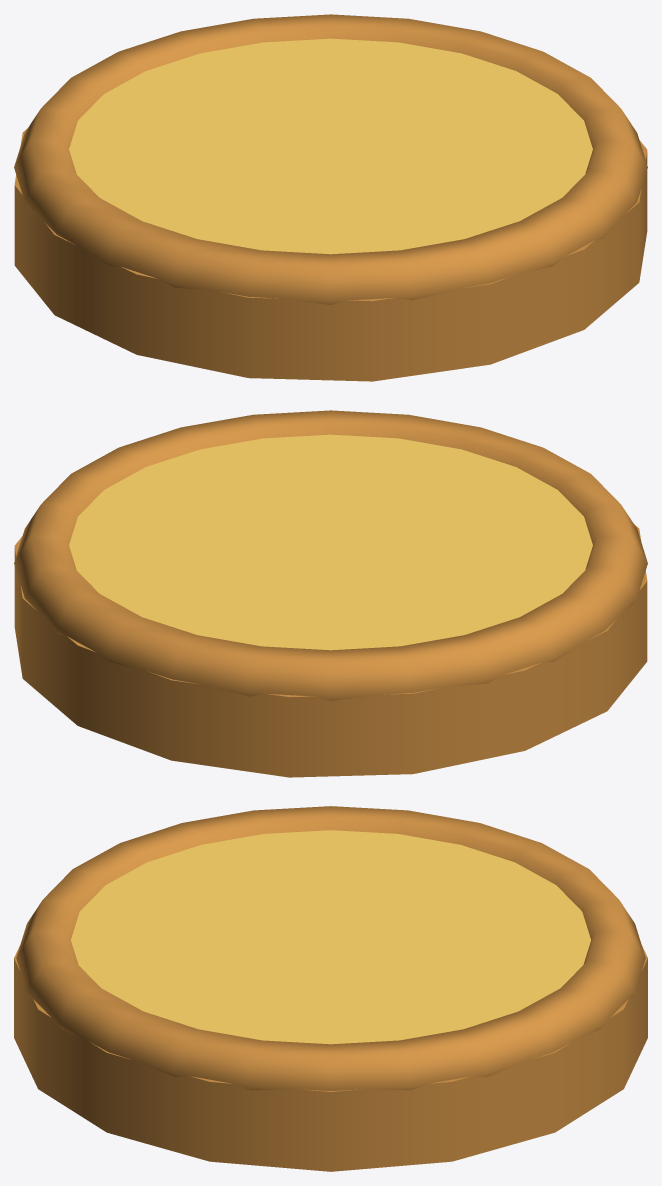
Rendered from pizza-cheese.glb.
3 views of the same model, one above another, from view 1: azimuth 30°, elevation 25°; view 2: azimuth 150°, elevation 25°; view 3: azimuth 270°, elevation 25° (orthographic).
Visible parts, largest first — view 1: pizza-cheese; view 2: pizza-cheese; view 3: pizza-cheese.
Part boxes in pixels (x1=…): pizza-cheese: x1=14, y1=14, x2=647, y2=381; pizza-cheese: x1=14, y1=410, x2=647, y2=777; pizza-cheese: x1=14, y1=806, x2=647, y2=1171.
Bounding box in the file's own units: 1.44 × 0.265 × 1.44.
